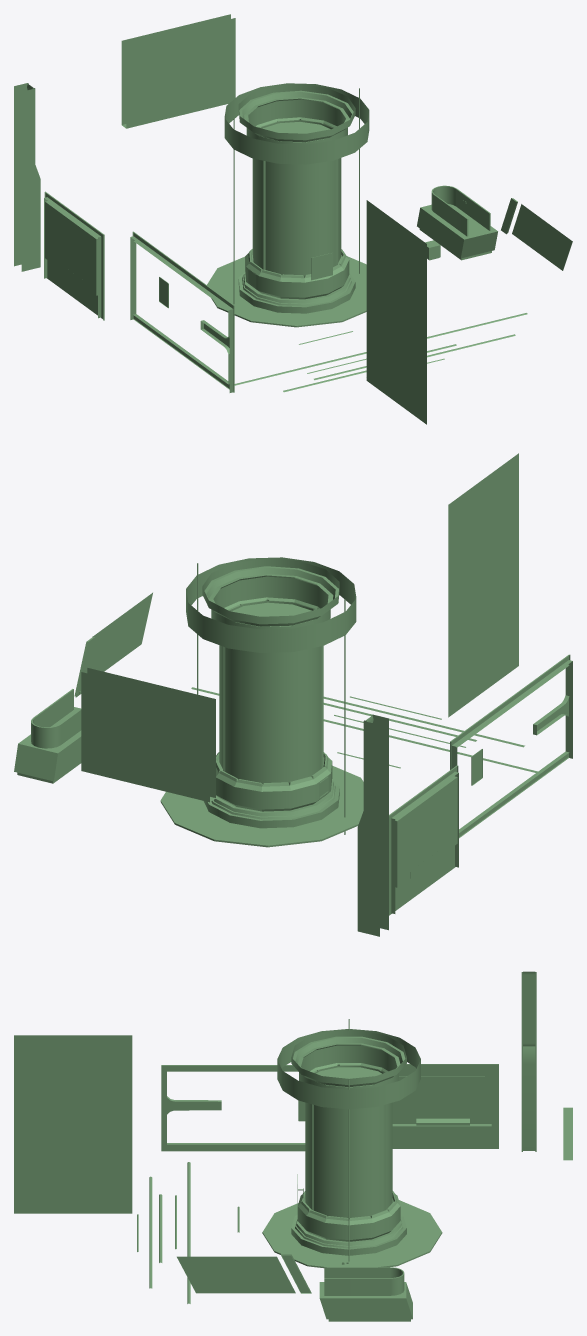
The model's file is Sala Principal.fbx.
3 views of the same model, one above another, from view 1: azimuth 30°, elevation 25°; view 2: azimuth 150°, elevation 25°; view 3: azimuth 270°, elevation 25° (orthographic). The views are drawn at different scales.
Parts seen in each view (by area): view 1: pasted__estructura, Parede_entrada, Paredesita, pasted__Tubo_holografico, Deco_paredsita, Columna, Deco_pared, Mesa, Pantalla, Pantalla_mesa, Divisor_P2; view 2: pasted__estructura, Parede_entrada, Paredesita, pasted__Tubo_holografico, Deco_paredsita, Columna, Deco_pared, Mesa, Pantalla, Pantalla_mesa; view 3: Parede_entrada, pasted__estructura, pasted__Tubo_holografico, Deco_paredsita, Pantalla, Deco_pared, Columna, Control_pantalla, Mesa, Pantalla_mesa, Paredesita, Divisor_P2 (+1 smaller).
Part boxes in pixels (x1,y1,x2,y2): pasted__estructura: [207, 83, 369, 327]; Parede_entrada: [366, 200, 426, 424]; Paredesita: [121, 14, 235, 128]; pasted__Tubo_holografico: [252, 120, 341, 276]; Deco_paredsita: [44, 191, 104, 320]; Columna: [14, 83, 40, 271]; Deco_pared: [130, 231, 234, 392]; Mesa: [417, 204, 497, 260]; Pantalla: [512, 204, 572, 270]; Pantalla_mesa: [431, 185, 490, 236]; Divisor_P2: [234, 313, 527, 385]; pasted__estructura: [160, 557, 363, 847]; Parede_entrada: [448, 453, 518, 717]; Paredesita: [81, 668, 215, 802]; pasted__Tubo_holografico: [219, 600, 321, 784]; Deco_paredsita: [389, 765, 458, 915]; Columna: [357, 714, 388, 936]; Deco_pared: [450, 654, 572, 838]; Mesa: [14, 707, 81, 783]; Pantalla: [87, 592, 152, 672]; Pantalla_mesa: [31, 689, 81, 748]; Parede_entrada: [14, 1035, 132, 1213]; pasted__estructura: [262, 1019, 442, 1268]; pasted__Tubo_holografico: [305, 1065, 392, 1218]; Deco_paredsita: [392, 1064, 498, 1148]; Pantalla: [177, 1256, 295, 1293]; Deco_pared: [161, 1065, 305, 1151]; Columna: [521, 971, 536, 1151]; Control_pantalla: [397, 1076, 484, 1112]; Mesa: [319, 1282, 412, 1321]; Pantalla_mesa: [324, 1267, 404, 1295]; Paredesita: [563, 1107, 572, 1160]; Divisor_P2: [187, 1162, 190, 1303].
Size of the model in its own units: 22.95 by 11.67 by 30.02.
